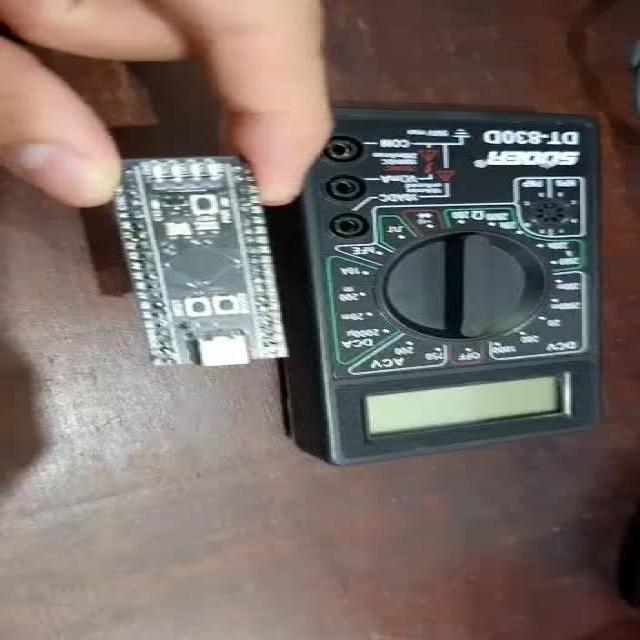multimeter: (332, 112, 601, 438)
stm32: (121, 156, 302, 360)
